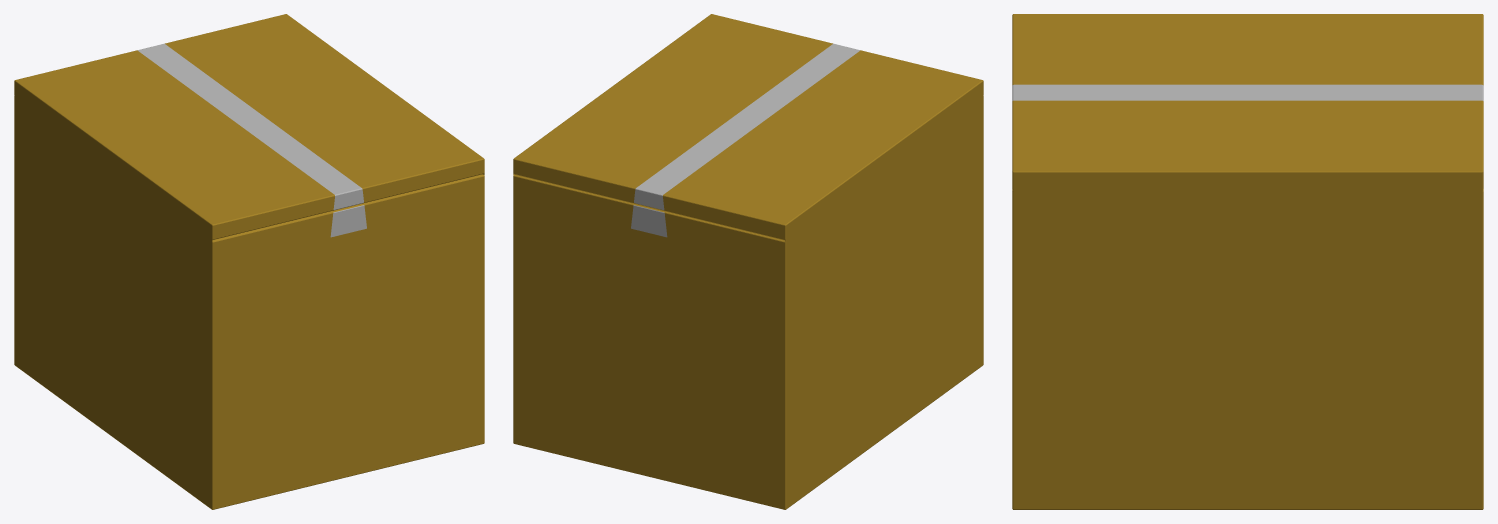
3 views of the same model, side by side, from view 1: azimuth 30°, elevation 25°; view 2: azimuth 150°, elevation 25°; view 3: azimuth 270°, elevation 25° (orthographic). The views are drawn at different scales.
Visible parts, largest first — view 1: Cube; view 2: Cube; view 3: Cube.
Boxes of the visible parts, left/top/right/bottom form: Cube: left=14, top=14, right=484, bottom=509; Cube: left=513, top=14, right=983, bottom=509; Cube: left=1012, top=14, right=1483, bottom=509.
Size of the model in its own units: 200 by 200 by 252.
